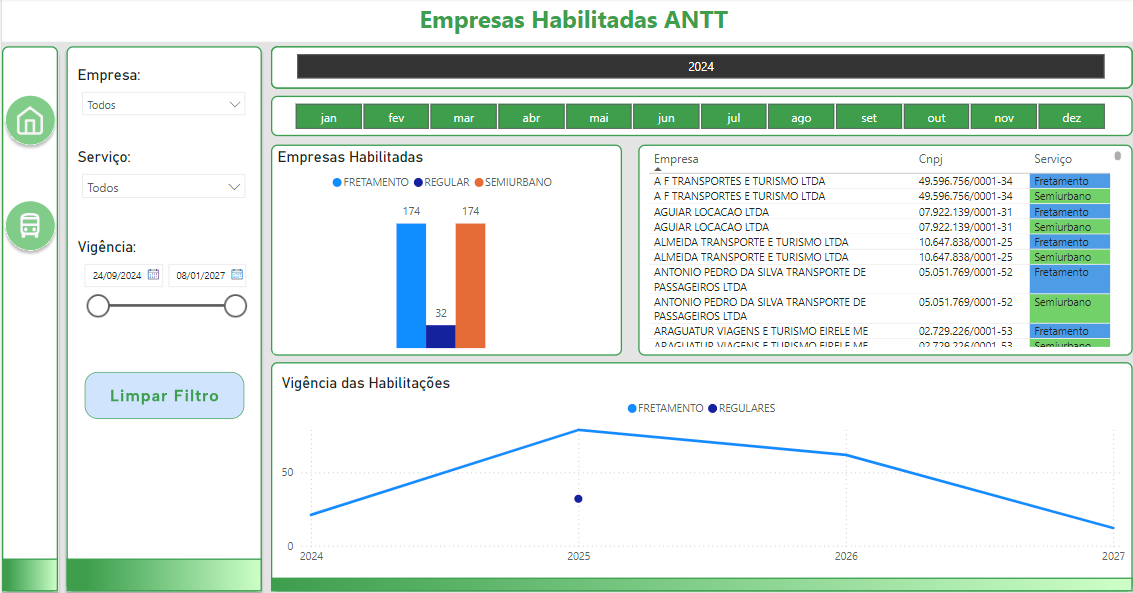

The page's visual inventory and layout, read from the dashboard file:
{"tool":"powerbi","page":{"name":"Empresas Habilitadas","canvas":[1280,720],"ordinal":0},"visuals":[{"type":"slicer","title":"Empresa:","fields":{"Values":["fFato.dfretamento.fretamento.razao_social"]},"box":[80,76.7,203.3,64.4],"z":0},{"type":"slicer","title":"Serviço:","fields":{"Values":["dServicos.Tipo-Servico"]},"box":[80,167.8,203.3,65.6],"z":1000},{"type":"slicer","title":"Vigência:","fields":{"Values":["fFato.regular.vigencia"]},"box":[80,268.9,203.3,100],"z":2000},{"type":"clusteredColumnChart","title":"Empresas Habilitadas","fields":{"Y":["Medidas.QtdFretamento","Medidas.QtdRegulares","Medidas.QtdSemiUrbano"]},"box":[303.9,168,383.1,230.1],"z":3000},{"type":"tableEx","fields":{"Values":["fFato.fretamento.razao_social","fFato.cnpj","dServicos.Tipo-Servico"]},"box":[718.9,165.6,540,230],"z":4000},{"type":"textbox","box":[0,0,1280,48.9],"z":5000},{"type":"slicer","fields":{"Values":["dCalendario.AnoAtual"]},"box":[304.4,55.6,954.4,41.1],"z":6000},{"type":"actionButton","box":[105.6,421.1,156.7,44.4],"z":7000},{"type":"slicer","fields":{"Values":["dCalendario.Mês"]},"box":[307.8,116.7,945.6,32.2],"z":8000},{"type":"actionButton","box":[8.9,116.7,43.3,44.4],"z":9000},{"type":"lineChart","title":"Vigência das Habilitações","fields":{"Category":["dCalendario.Ano"],"Y":["Medidas.QtdFretamento","Medidas.QtdRegulares"]},"box":[307.8,421.1,954.4,222.2],"z":10000},{"type":"actionButton","box":[8.9,233.3,43.3,44.4],"z":11000}]}

Visuals, with their boxes on the page's 1280x720 design canvas (x1, y1, x2, y2). These are canvas units, not pixel positions in the 1133x593 screenshot, which may show the page scaled, cropped or inside an application window:
"Empresa:" slicer: box(80, 77, 283, 141)
"Serviço:" slicer: box(80, 168, 283, 233)
"Vigência:" slicer: box(80, 269, 283, 369)
"Empresas Habilitadas" clusteredColumnChart: box(304, 168, 687, 398)
tableEx - fFato.fretamento.razao_social x fFato.cnpj: box(719, 166, 1259, 396)
textbox: box(0, 0, 1280, 49)
slicer - dCalendario.AnoAtual: box(304, 56, 1259, 97)
actionButton: box(106, 421, 262, 466)
slicer - dCalendario.Mês: box(308, 117, 1253, 149)
actionButton: box(9, 117, 52, 161)
"Vigência das Habilitações" lineChart: box(308, 421, 1262, 643)
actionButton: box(9, 233, 52, 278)
